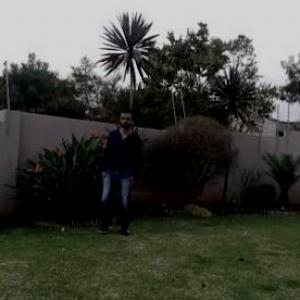follow: (102, 104, 140, 234)
